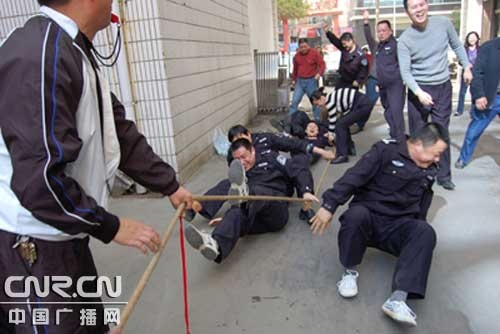falling: (221, 120, 335, 211)
